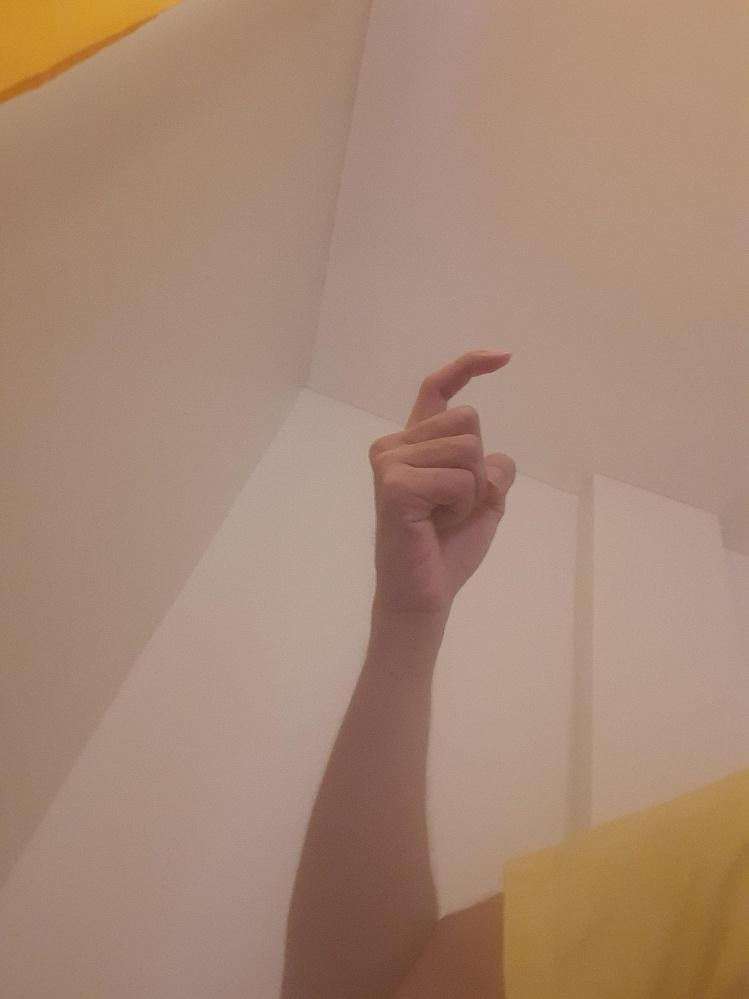x: (369, 347, 515, 595)
